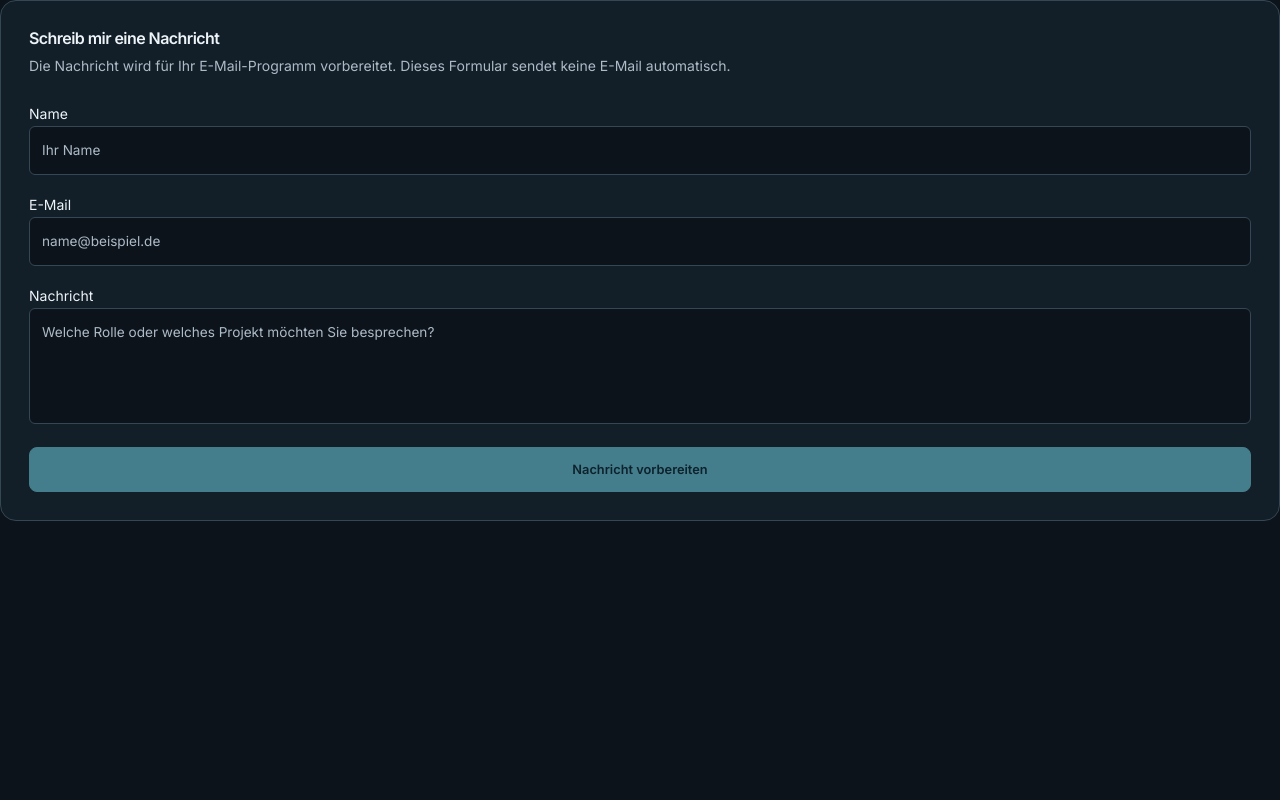
Test: ContactForm › retains a usable email draft when clipboard access fails
Type "Recruiter" into the field labelled "Name" at [640, 150], box [29,126,1251,175]
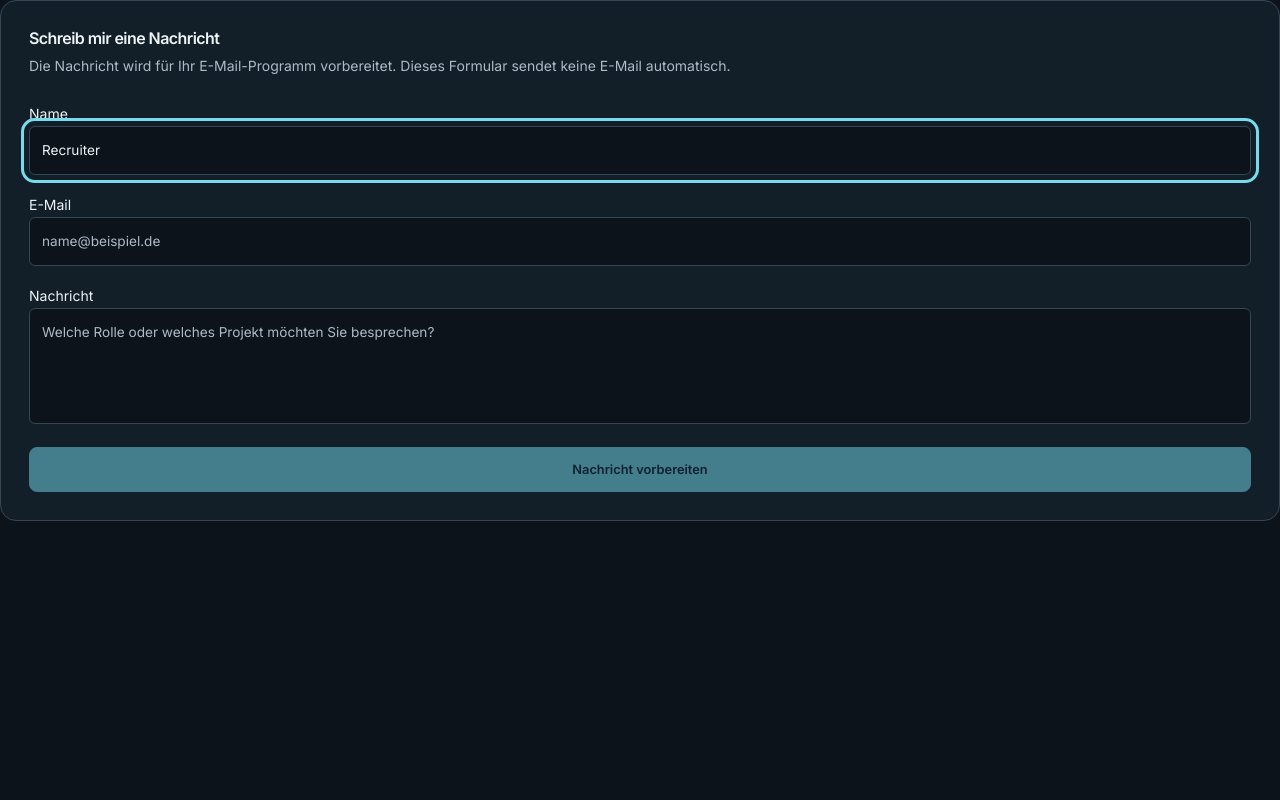
Type "recruiter@example.com" into the field labelled "E-Mail" at [640, 241], box [29,217,1251,266]
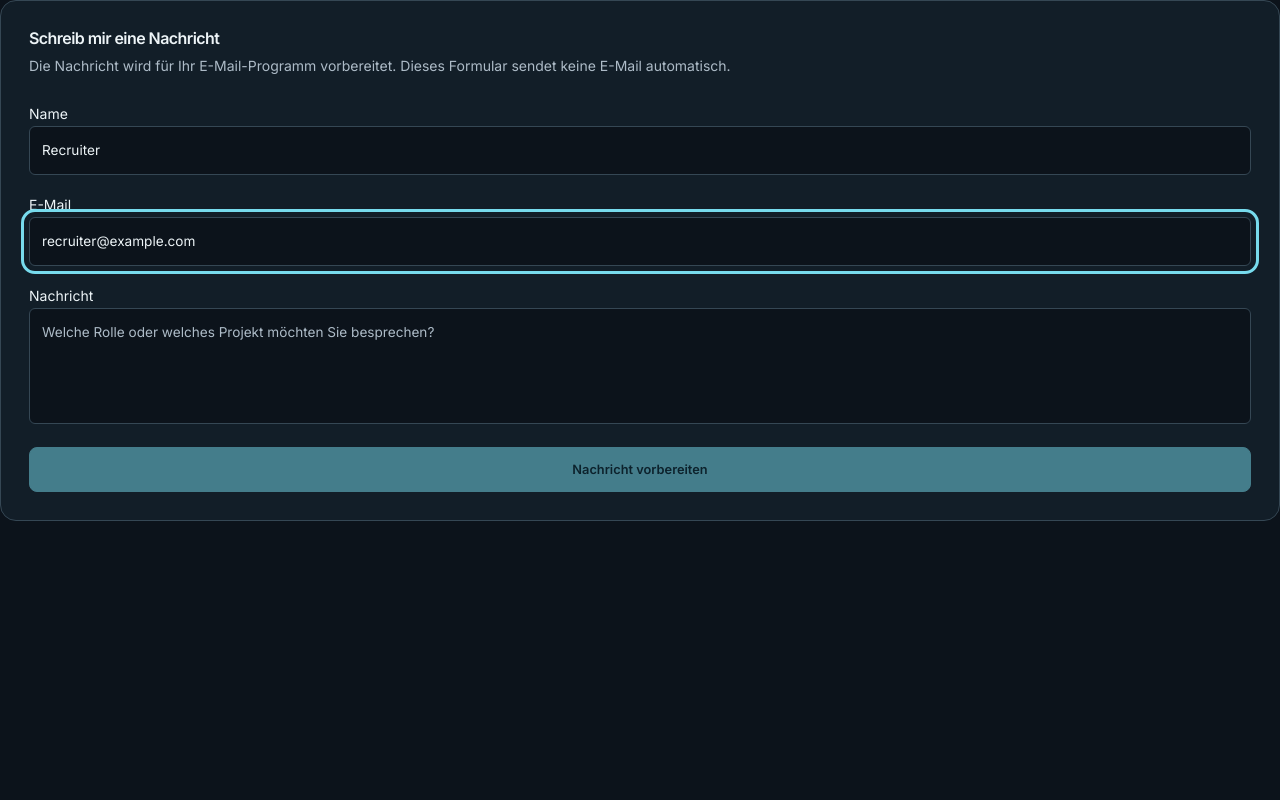
Type "Ich möchte Ihre Projekte und eine Junior-Stelle besprechen." into the text box labelled "Nachricht" at [640, 366], box [29,308,1251,424]
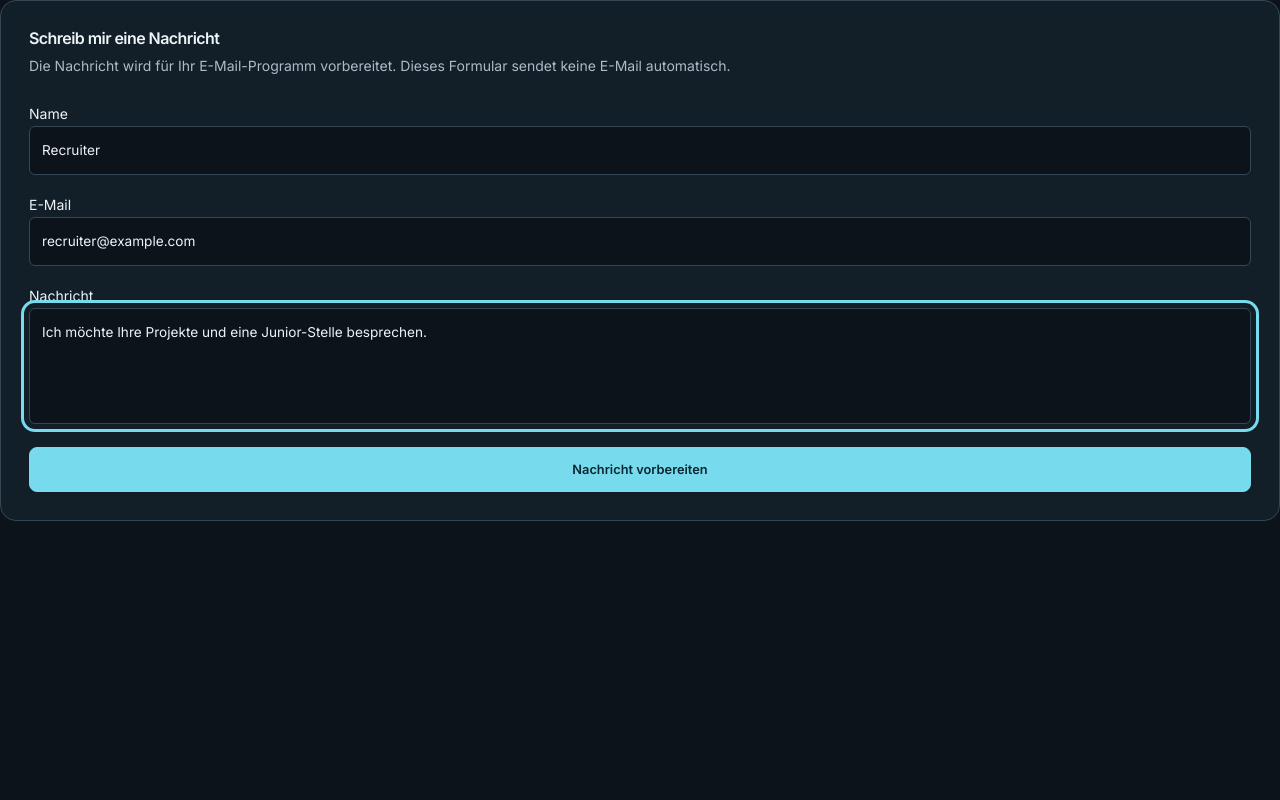
Click the button "Nachricht vorbereiten" at [640, 470], box [29,447,1251,492]
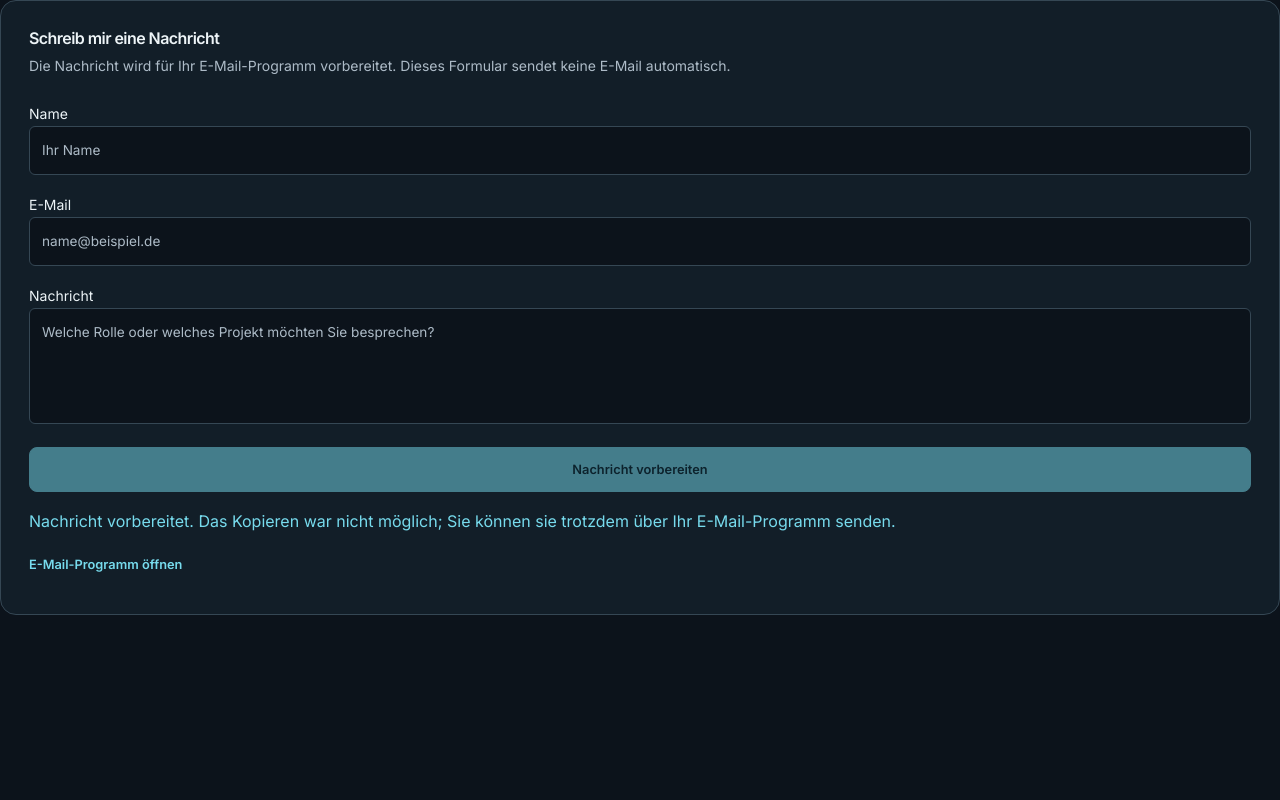
Result: the message shows "Das Kopieren war nicht möglich" at [29,511,896,531]
